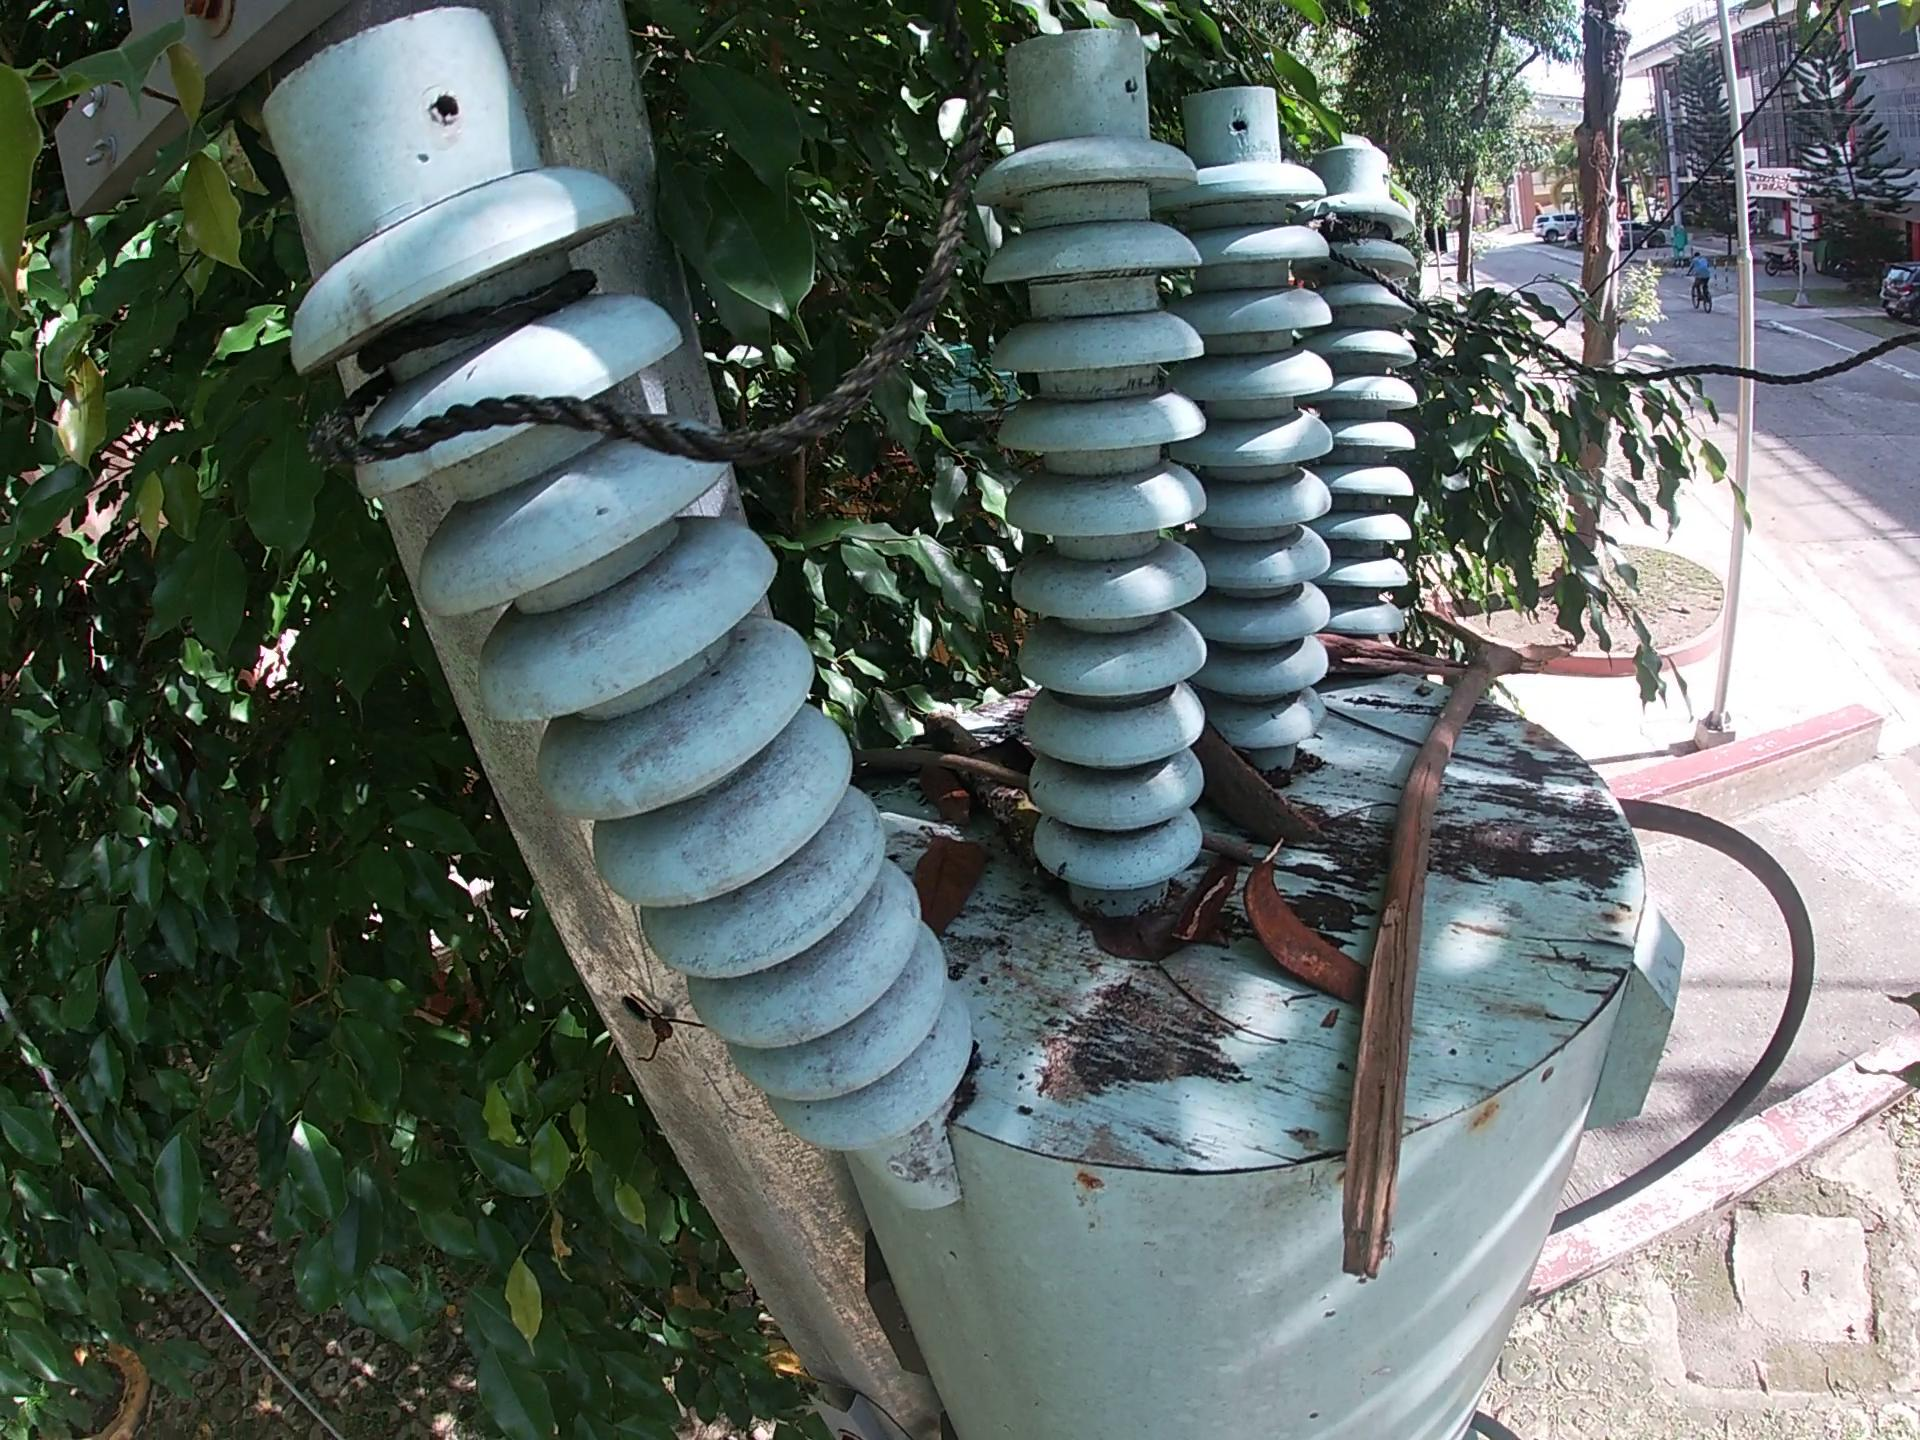mahogany fruit: (1243, 818, 1359, 1016), (1199, 732, 1333, 849)
tree branch: (1341, 601, 1556, 1345), (918, 690, 1045, 861), (1150, 964, 1312, 1054), (1330, 705, 1525, 779), (1320, 628, 1469, 687), (1169, 850, 1246, 935), (918, 836, 989, 920), (859, 750, 1034, 781), (910, 782, 989, 836), (992, 725, 1031, 765), (1202, 836, 1267, 858)
